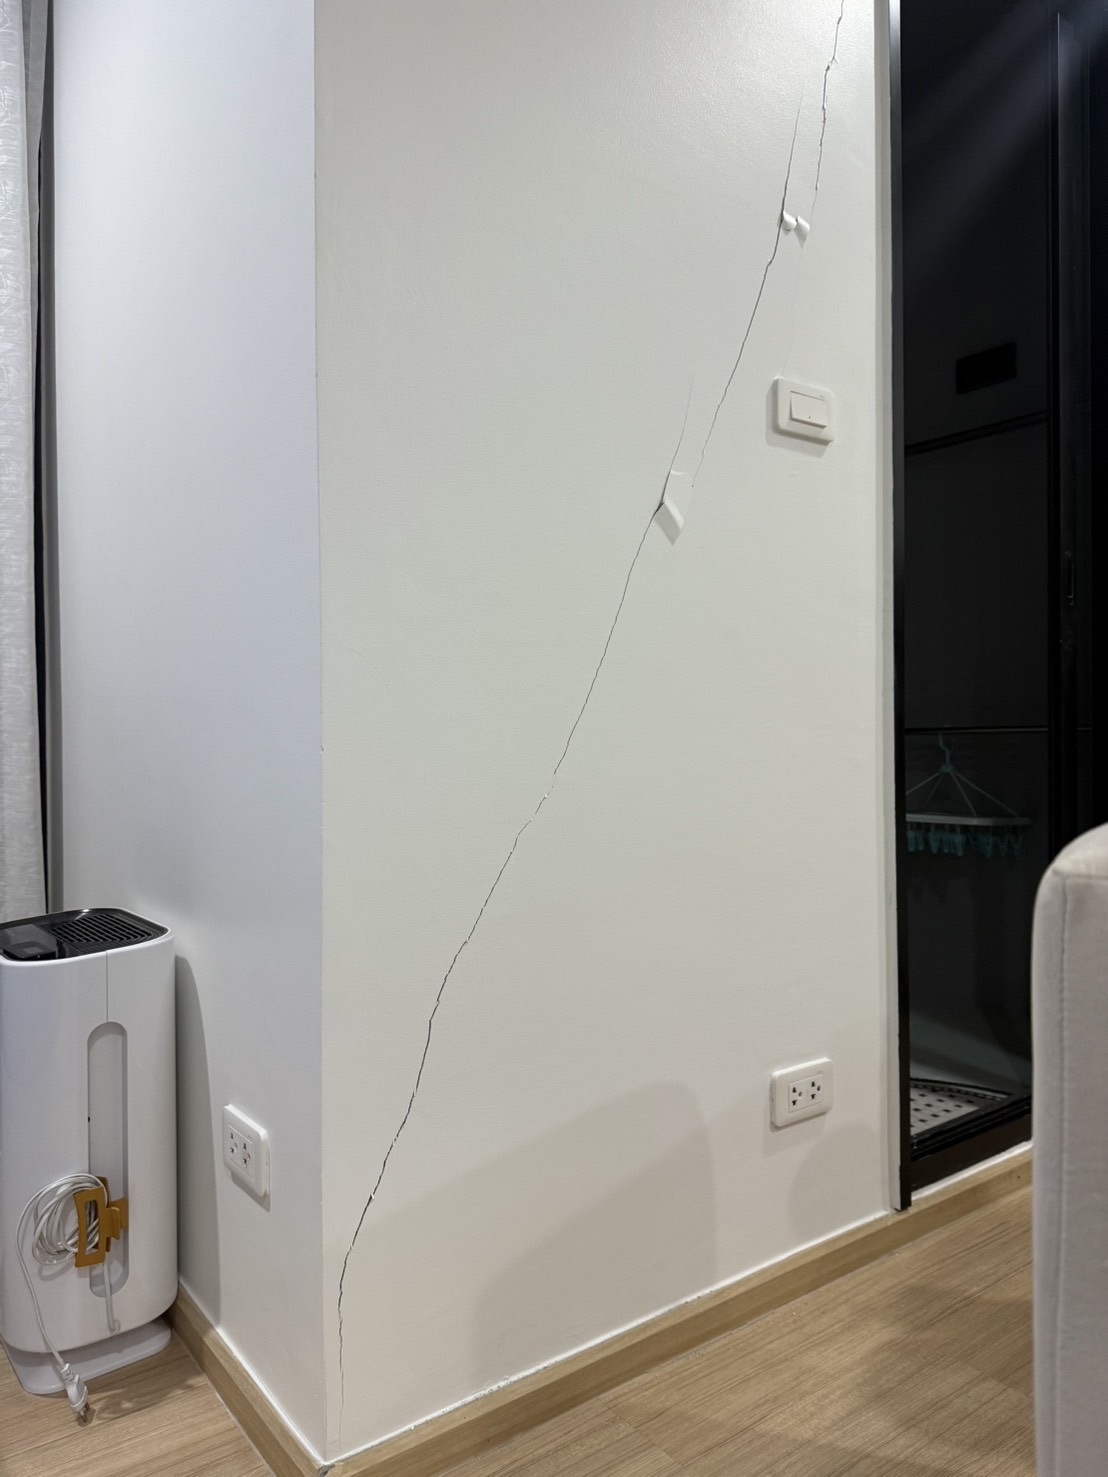Low: (329, 1, 883, 1434)
